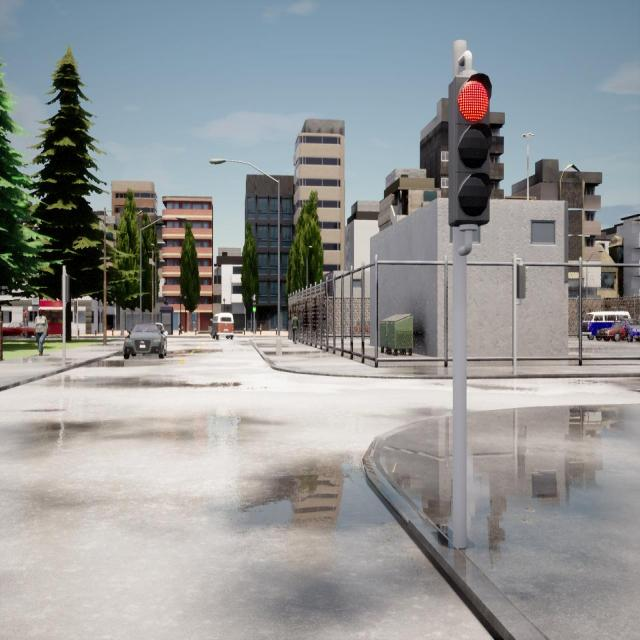Pedestrian: (34, 309, 48, 355), (292, 312, 298, 345)
Traffic_Signs: (25, 309, 28, 318)
Vehicle: (124, 323, 168, 358), (582, 311, 630, 339), (211, 313, 234, 341), (620, 318, 640, 342), (597, 324, 626, 340)
traffic_light: (449, 78, 491, 222), (517, 266, 526, 298), (65, 276, 69, 302), (252, 299, 256, 313), (74, 301, 77, 313)
